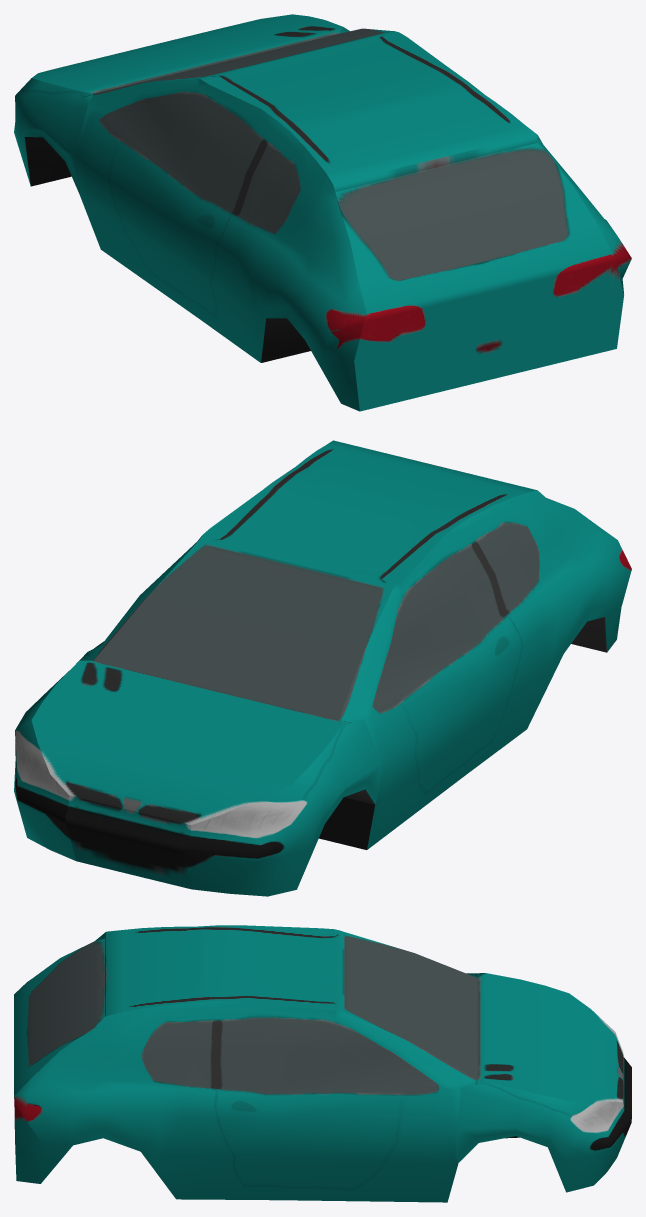
File: lp-compacte-turquoise.glb
3 renders of one model, top to bottom at view 1: azimuth 30°, elevation 25°; view 2: azimuth 150°, elevation 25°; view 3: azimuth 270°, elevation 25°, orthographic. The views are drawn at different scales.
Visible parts, largest first — view 1: Object_43; view 2: Object_43; view 3: Object_43.
Part boxes in pixels (x1=…): Object_43: x1=14, y1=14, x2=631, y2=411; Object_43: x1=14, y1=440, x2=631, y2=896; Object_43: x1=14, y1=925, x2=631, y2=1202.
Size of the model in its own units: 2.36 by 1.58 by 4.81.
Materials: 1 (1 with a texture image).
